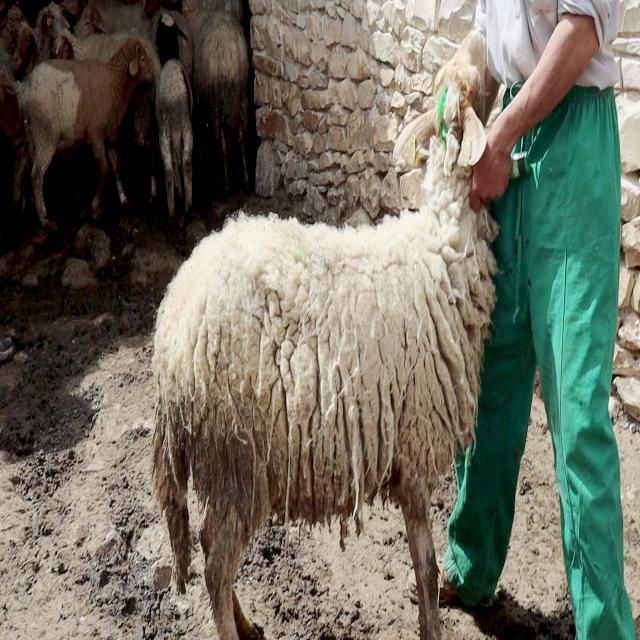Score_2: (152, 30, 497, 639)
